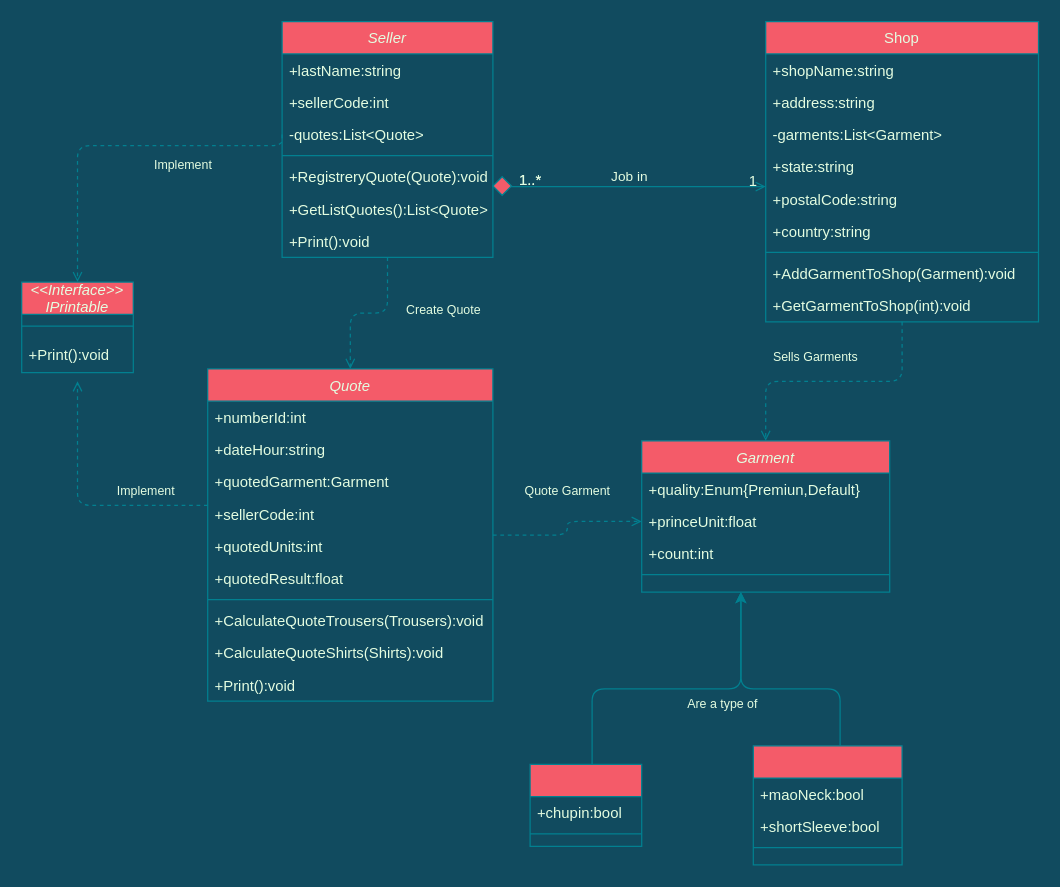
The diagram is 1060 pixels wide and 887 high, and some of its shapes have lost their labels. Each missing label, with the box of its shape:
Shirt: (752, 745, 902, 865)
Troursers: (529, 763, 642, 846)
